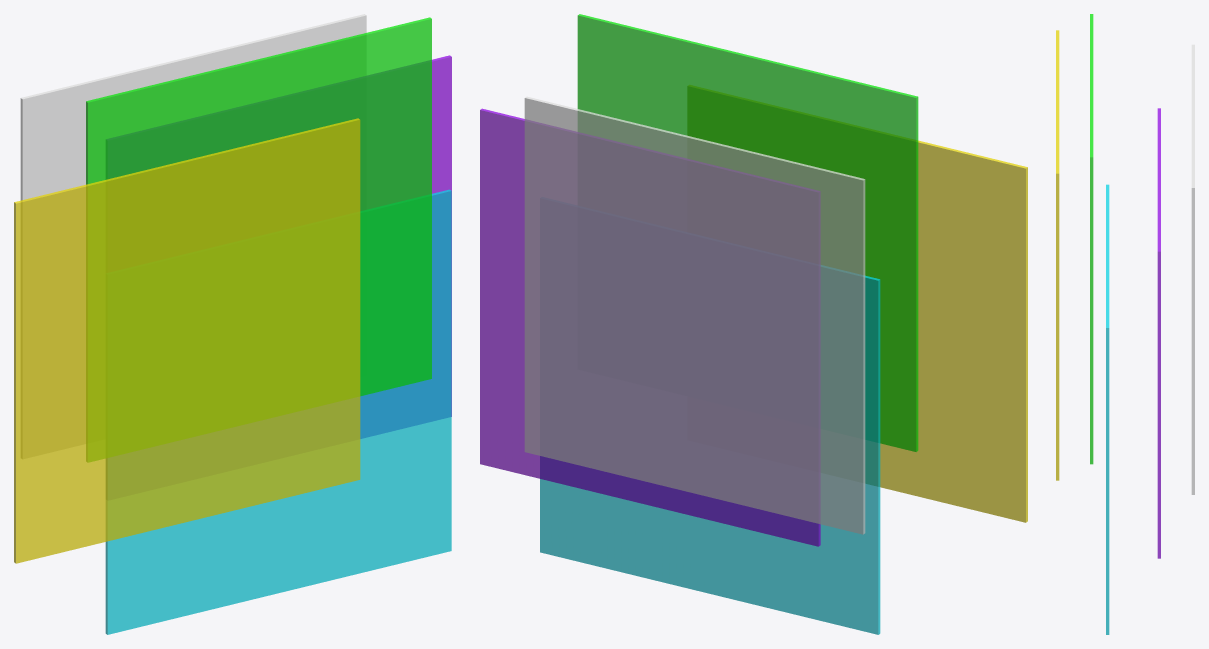
Rendered from geom-transp-sheets.3.gltf.
The picture shows the model from 3 angles, left to right: view 1: azimuth 30°, elevation 25°; view 2: azimuth 150°, elevation 25°; view 3: azimuth 270°, elevation 25°; orthographic projection. The views are drawn at different scales.
Parts seen in each view (by area): view 1: BoxA, BoxB, BoxC, BoxE, BoxD; view 2: BoxE, BoxD, BoxA, BoxB, BoxC; view 3: BoxA, BoxD, BoxC, BoxB, BoxE.
Part boxes in pixels (x1,y1,x2,y2): BoxA: [14, 118, 360, 563]; BoxB: [86, 17, 431, 461]; BoxC: [105, 189, 451, 634]; BoxE: [20, 14, 366, 458]; BoxD: [106, 55, 451, 438]; BoxE: [524, 96, 865, 534]; BoxD: [480, 108, 820, 546]; BoxA: [688, 85, 1027, 522]; BoxB: [577, 14, 918, 451]; BoxC: [540, 265, 880, 634]; BoxA: [1056, 30, 1059, 480]; BoxD: [1157, 108, 1160, 558]; BoxC: [1106, 184, 1109, 634]; BoxB: [1090, 14, 1093, 464]; BoxE: [1191, 44, 1194, 494].
Bounding box in the file's own units: 1.44 × 1.52 × 0.41.
